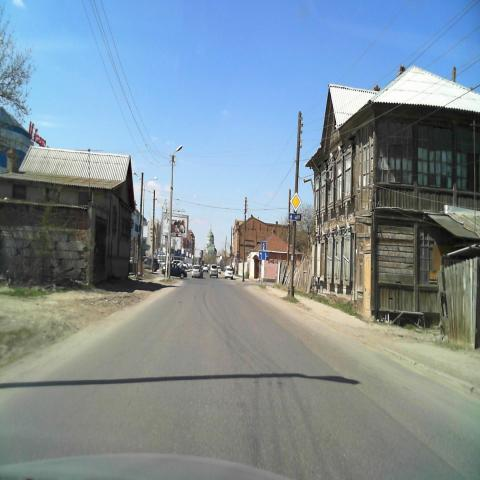5_15_2_2: (259, 251, 269, 260)
